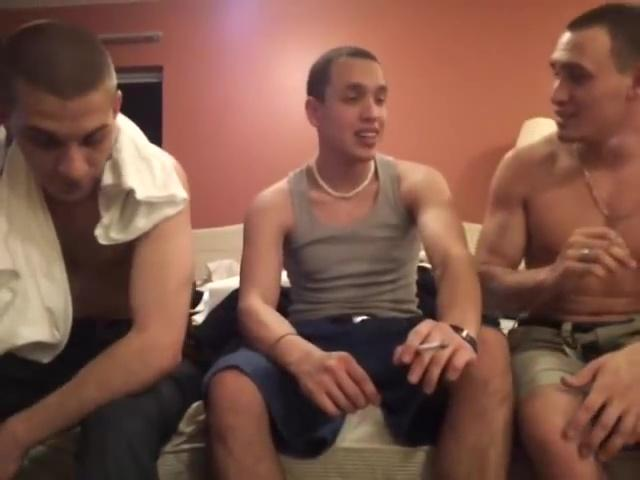cigarette: (415, 338, 453, 353)
